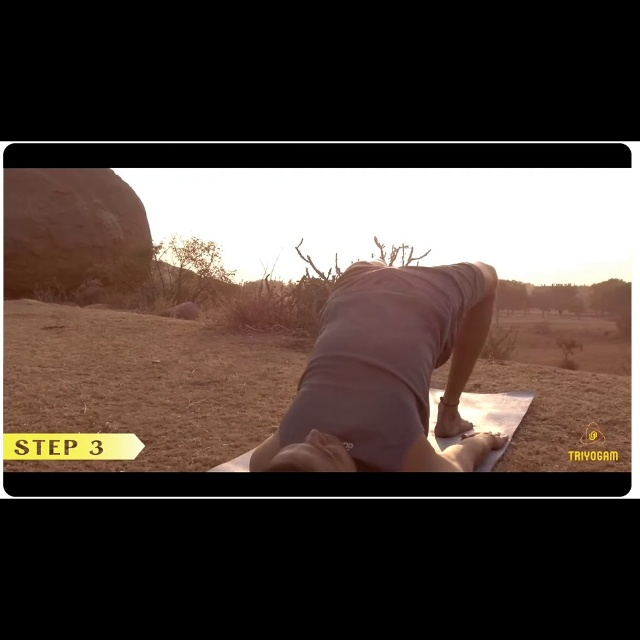Bridge_Pose: (220, 246, 519, 471)
